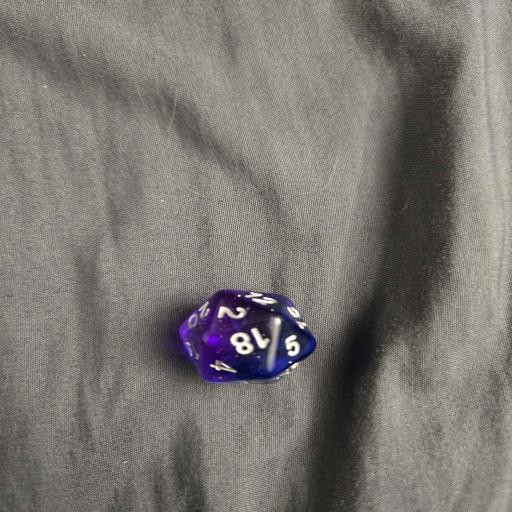twenty sided dice: (179, 289, 317, 386)
